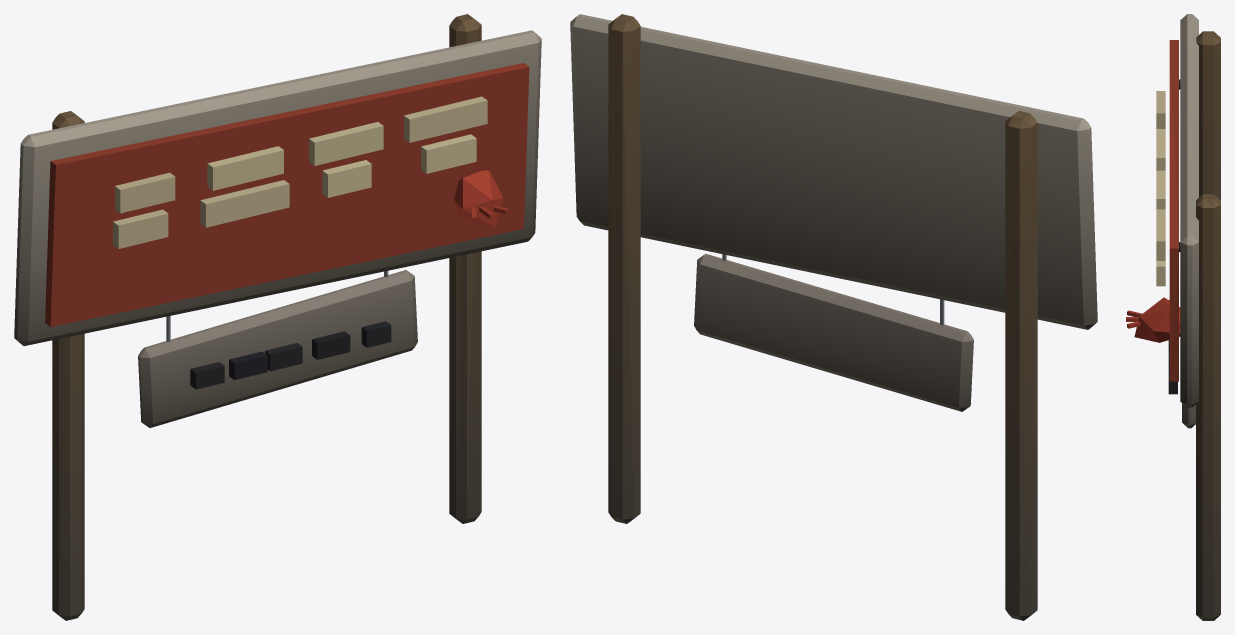
The model's file is bait-sign.glb.
The picture shows the model from 3 angles, left to right: view 1: azimuth 30°, elevation 25°; view 2: azimuth 150°, elevation 25°; view 3: azimuth 270°, elevation 25°; orthographic projection. The views are drawn at different scales.
Visible parts, largest first — view 1: bait_sign; view 2: bait_sign; view 3: bait_sign.
Boxes of the visible parts, x1,y1,x2,y2 form: bait_sign: [14, 14, 541, 620]; bait_sign: [570, 14, 1097, 620]; bait_sign: [1126, 14, 1220, 620].
Bounding box in the file's own units: 1.64 × 1.5 × 0.305.
